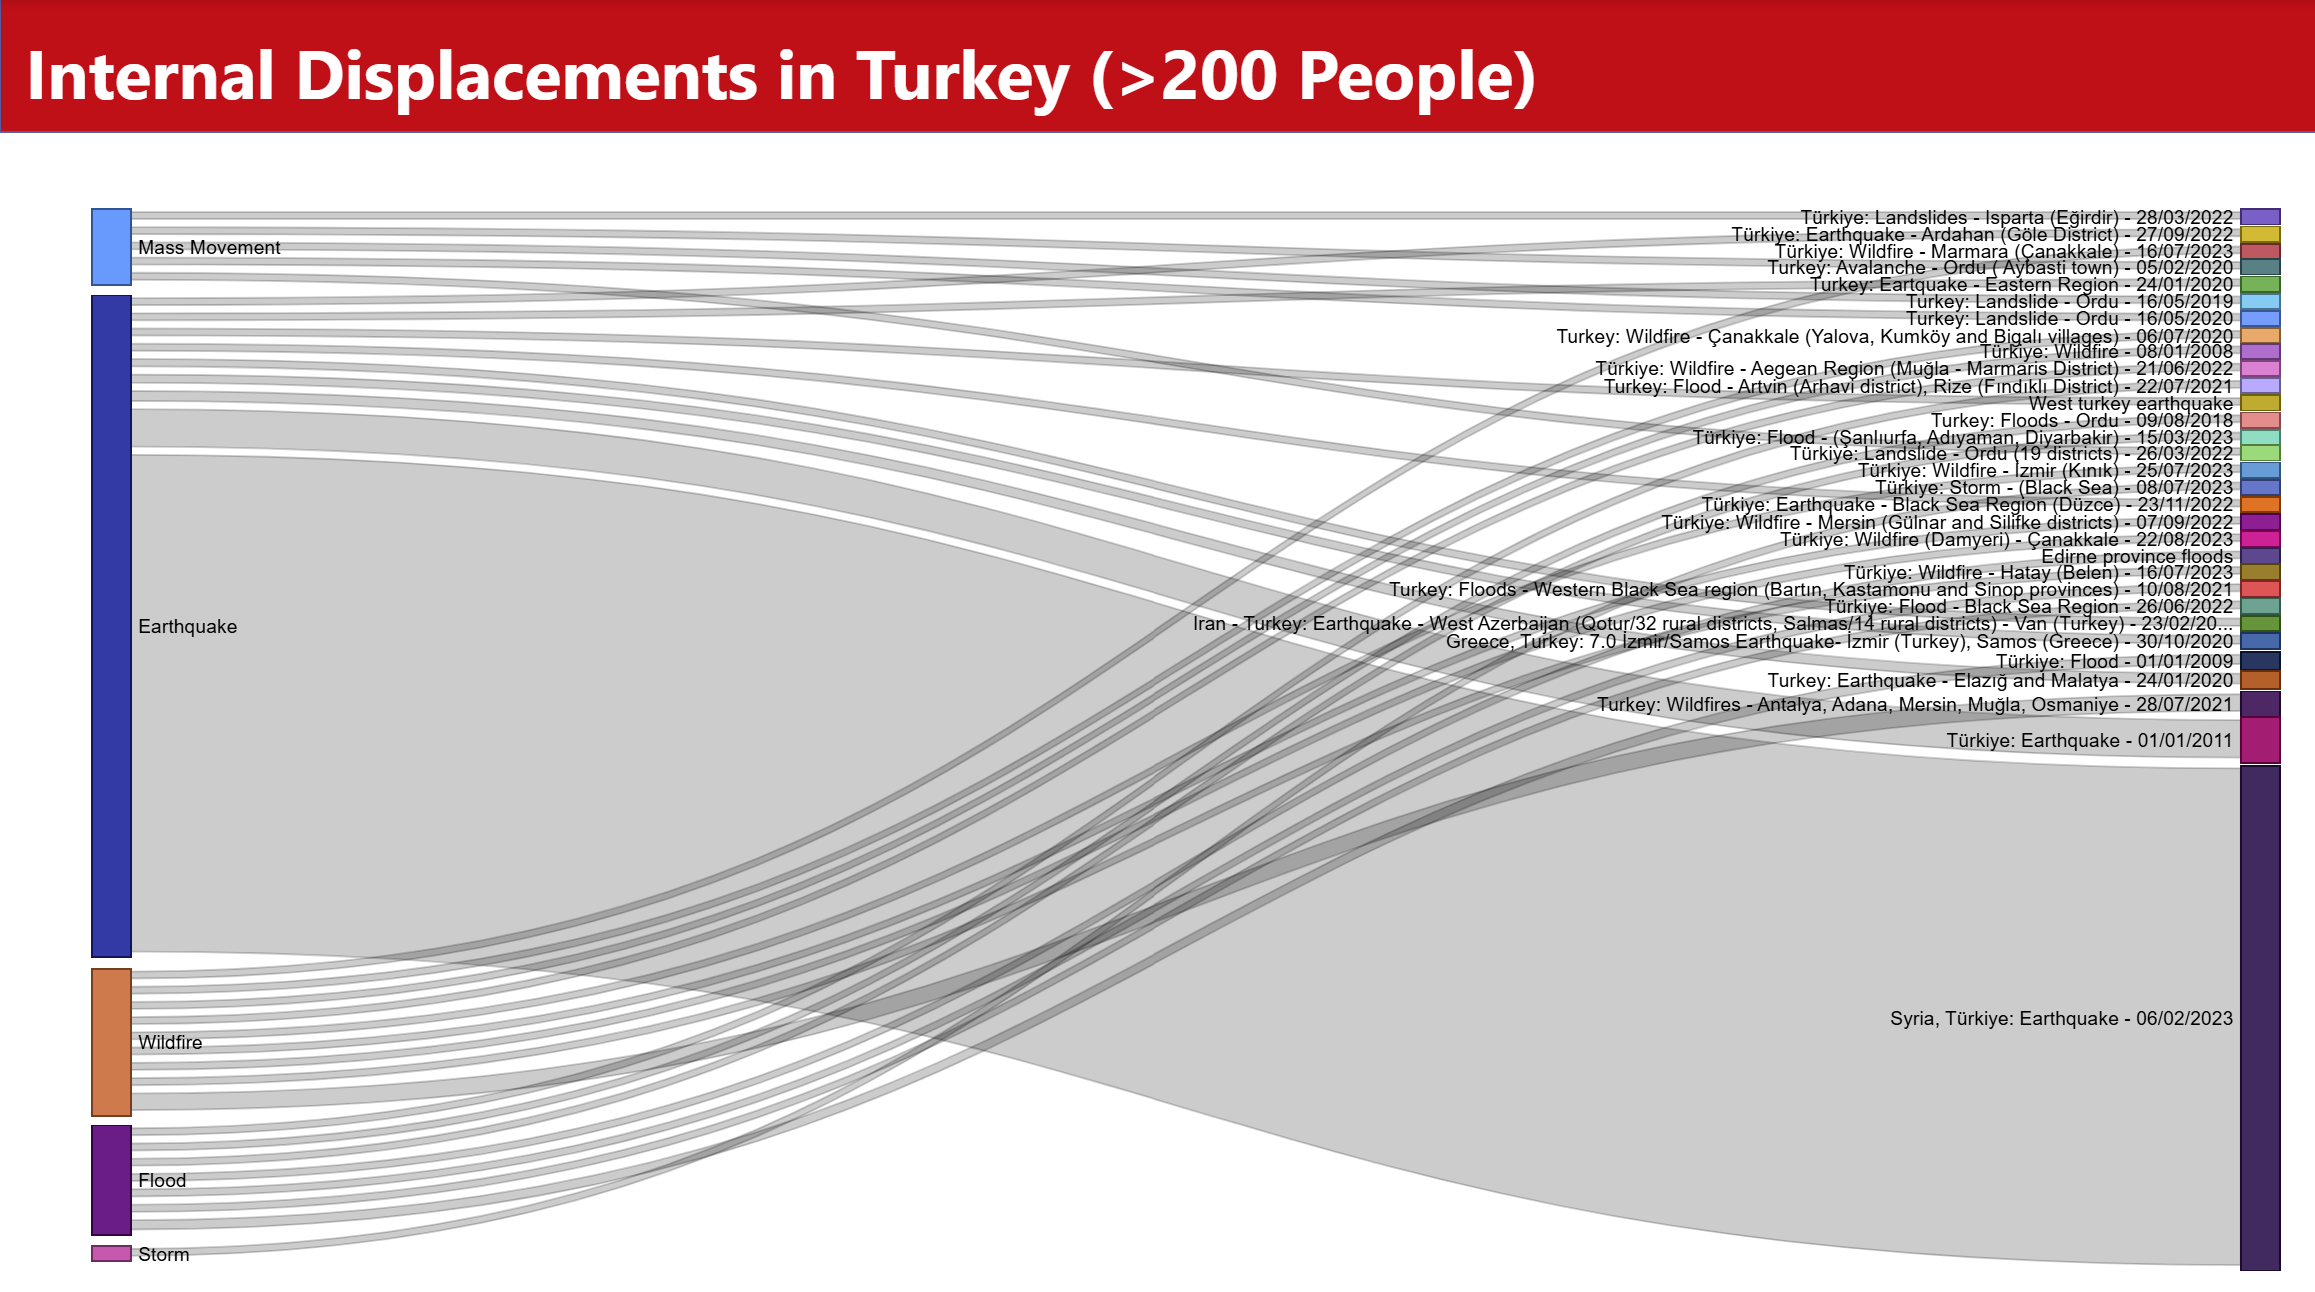

The page's visual inventory and layout, read from the dashboard file:
{"tool":"powerbi","page":{"name":"Internal Displacements","canvas":[1280,720],"ordinal":3},"visuals":[{"type":"shape","box":[0,0,1280.3,74.1],"z":0},{"type":"SankeyDiagram1446463184954","fields":{"Source":["internal-displacements-new-displacements-associated-with-disasters_tur.hazard_type_name"],"Destination":["internal-displacements-new-displacements-associated-with-disasters_tur.event_name"],"Weight":["Sum(internal-displacements-new-displacements-associated-with-disasters_tur.new_displacement)"]},"box":[36.1,95.8,1231.5,613.3],"z":1000},{"type":"textbox","box":[10,10,892,74],"z":2000}]}

Visuals, with their boxes in screenshot pixels (x1, y1, x2, y2), scaled from the page's 1280x720 canvas onto the 2315x1292 screenshot:
shape: region(0, 0, 2314, 133)
SankeyDiagram1446463184954 - internal-displacements-new-displacements-associated-with-disasters_tur.hazard_type_name x internal-displacements-new-displacements-associated-with-disasters_tur.event_name: region(65, 172, 2293, 1272)
textbox: region(18, 18, 1631, 151)
